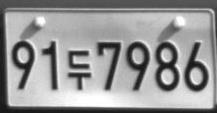1: (40, 39, 65, 89)
6: (183, 41, 209, 92)
7: (96, 41, 122, 90)
8: (154, 40, 180, 92)
9: (125, 40, 151, 91), (11, 39, 36, 90)
두: (66, 49, 91, 90)
